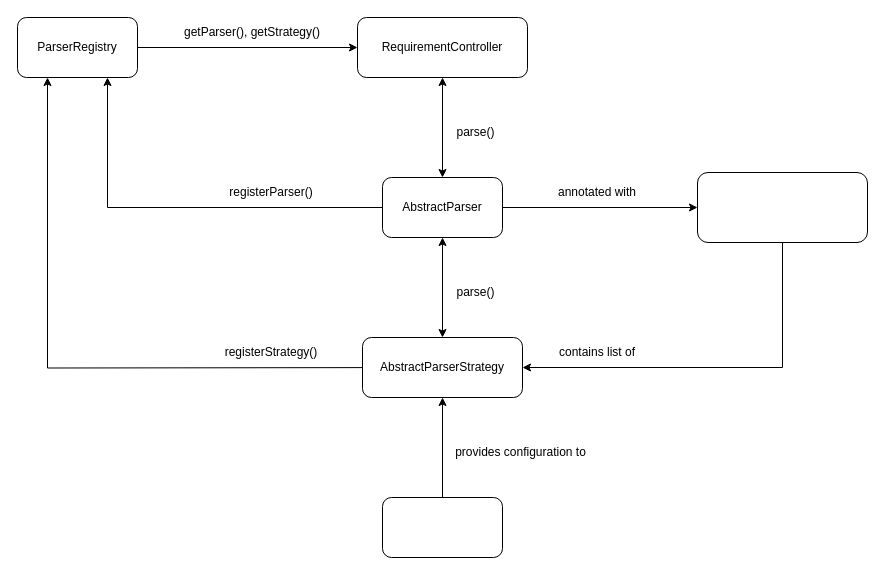
Some shapes in this 885 by 575 pixel diagram are drawn without their labels. The centre of each missing label's shape, as x and y in pixels:
"@SupportedStrategies" goes at point (782, 207).
"ParserConfig" goes at point (442, 527).
